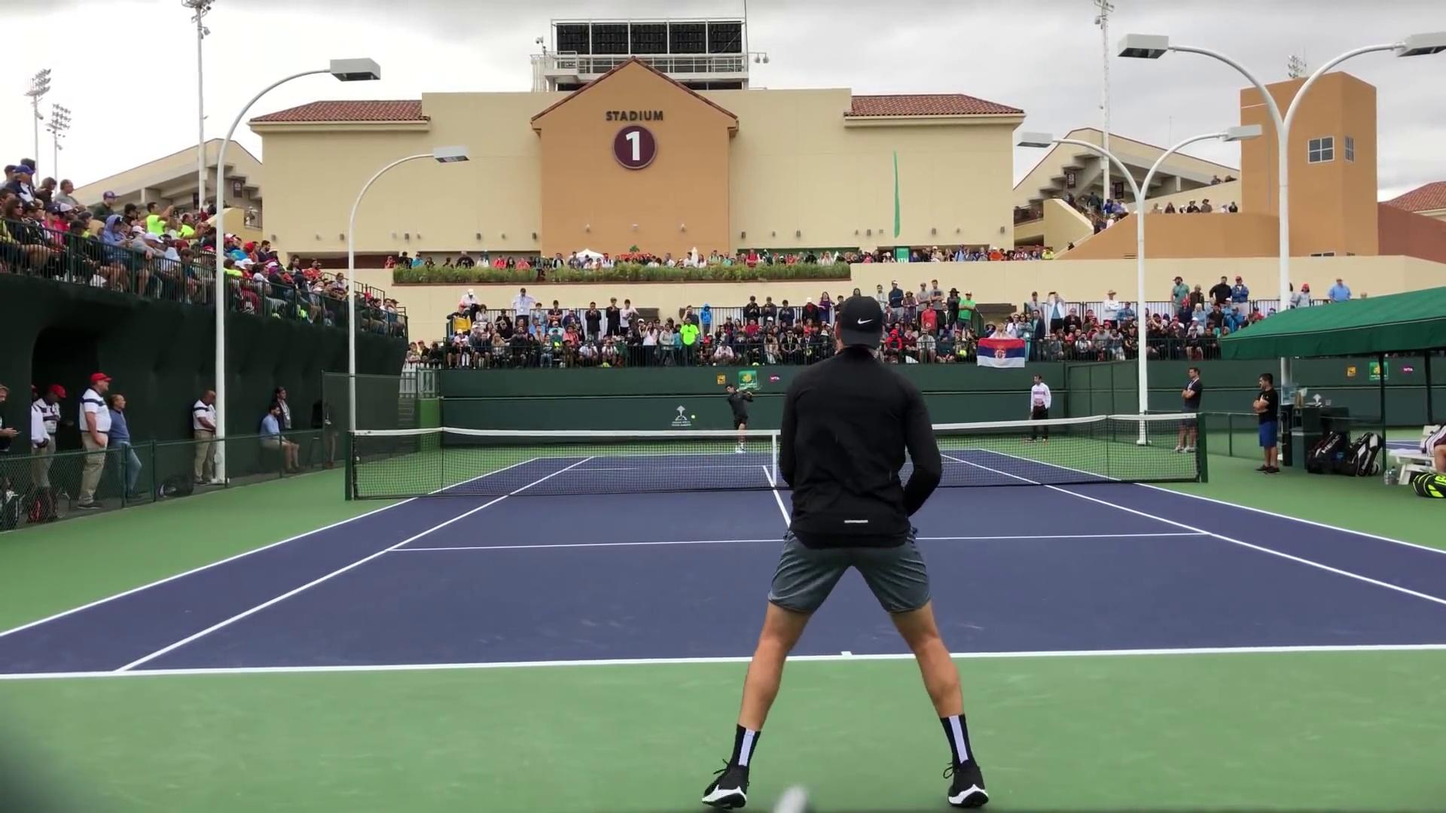ball: (686, 411, 700, 422)
